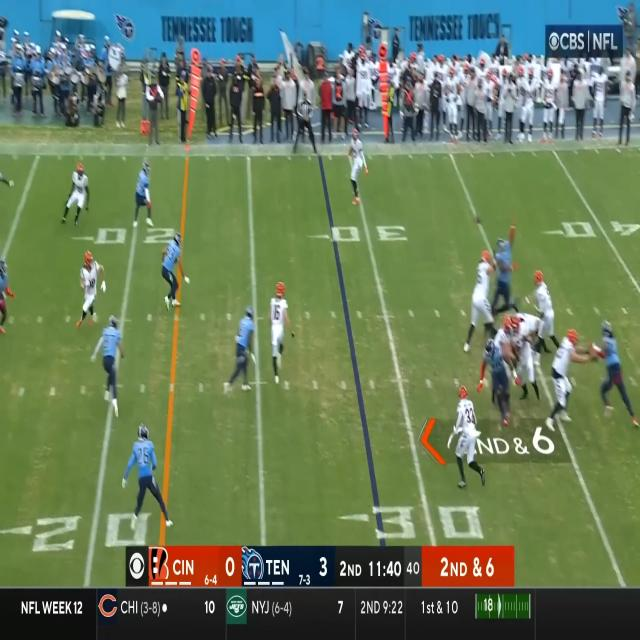players: (124, 422, 176, 540), (589, 326, 639, 425), (479, 328, 517, 430), (452, 386, 487, 496), (550, 326, 582, 431), (464, 246, 494, 354), (100, 319, 128, 414), (228, 309, 259, 394), (58, 157, 92, 233), (490, 234, 520, 319), (532, 269, 560, 358), (76, 254, 106, 335), (270, 283, 292, 387), (160, 234, 188, 314), (518, 313, 541, 409), (129, 155, 156, 236), (344, 130, 370, 211), (1, 255, 16, 340)
